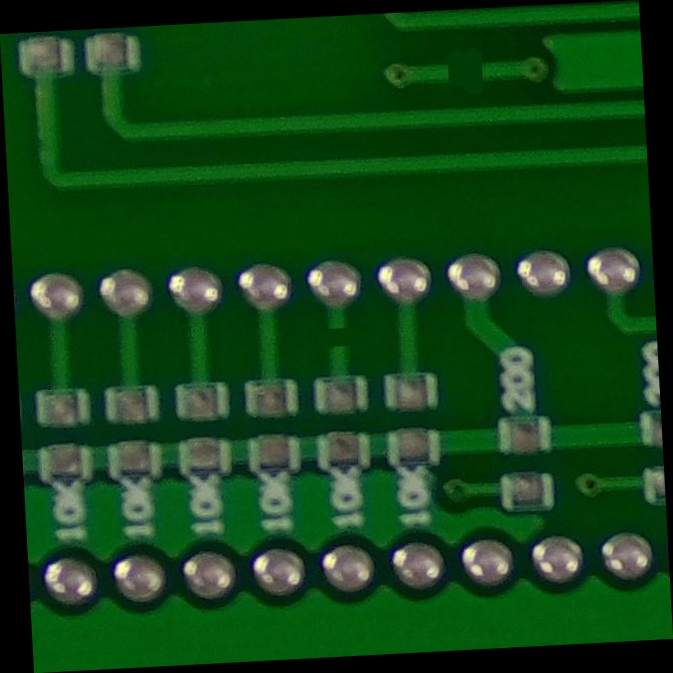open_circuit: (315, 318, 358, 356)
